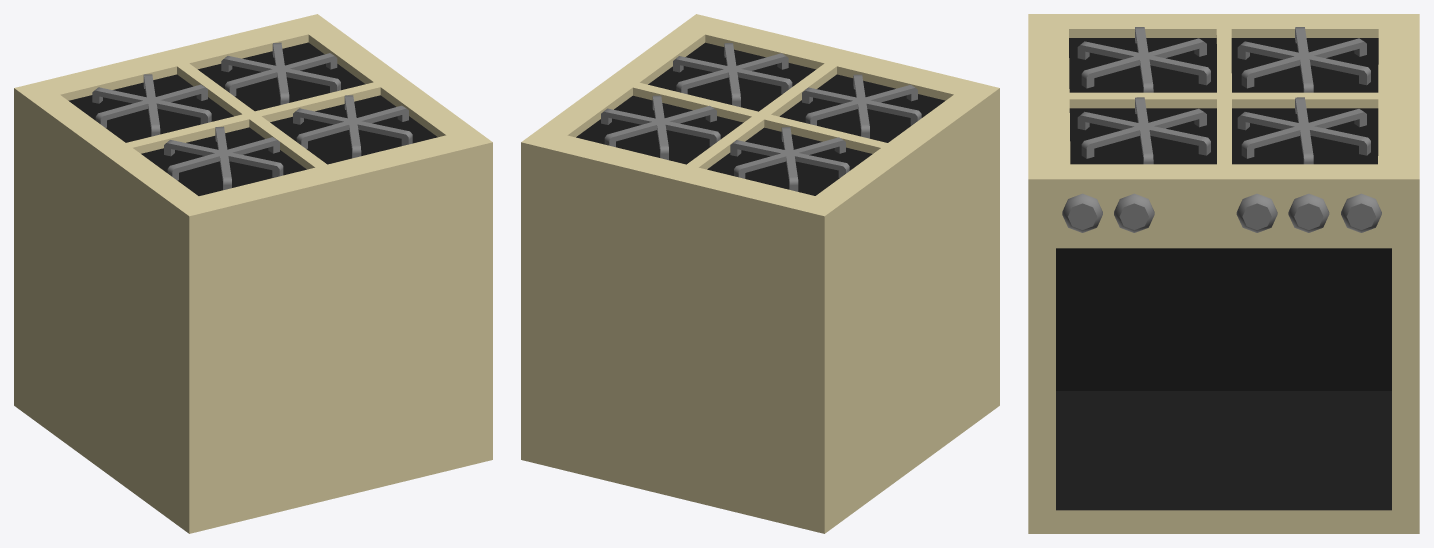
The model's file is SM_Oven_02.fbx.
The picture shows the model from 3 angles, left to right: view 1: azimuth 30°, elevation 25°; view 2: azimuth 150°, elevation 25°; view 3: azimuth 270°, elevation 25°; orthographic projection. The views are drawn at different scales.
Parts seen in each view (by area): view 1: SM_Oven_02; view 2: SM_Oven_02; view 3: SM_Oven_02.
Part boxes in pixels (box(x1,y1,x2,y2)): SM_Oven_02: box(14, 14, 492, 533); SM_Oven_02: box(521, 14, 999, 533); SM_Oven_02: box(1028, 14, 1419, 533).
Bounding box in the file's own units: 1.03 × 1 × 1.01.
